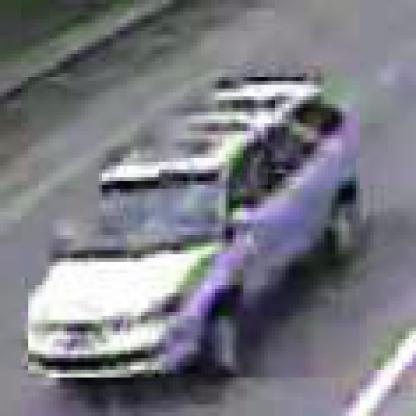car: (26, 78, 368, 382)
